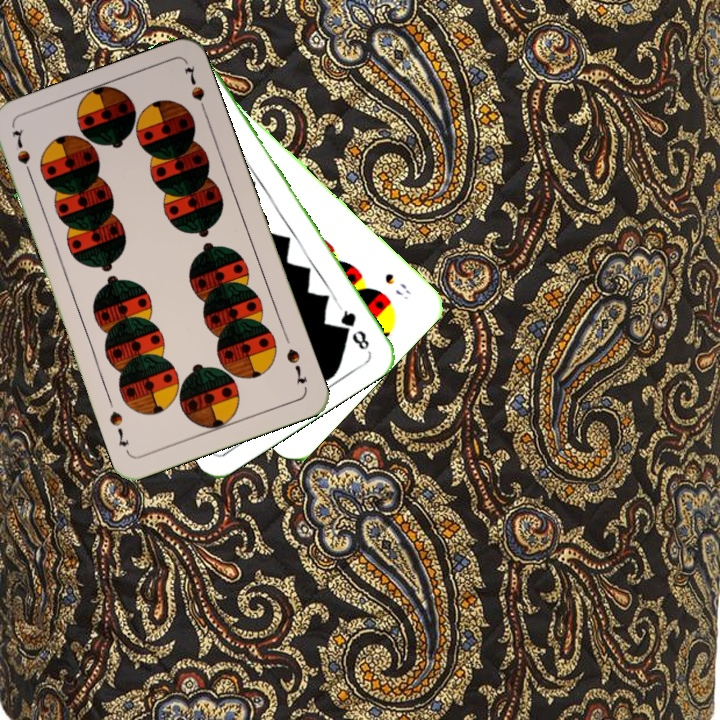G8: (334, 302, 372, 353)
S7: (7, 125, 36, 182), (282, 344, 310, 387)
S8: (381, 269, 412, 303)
